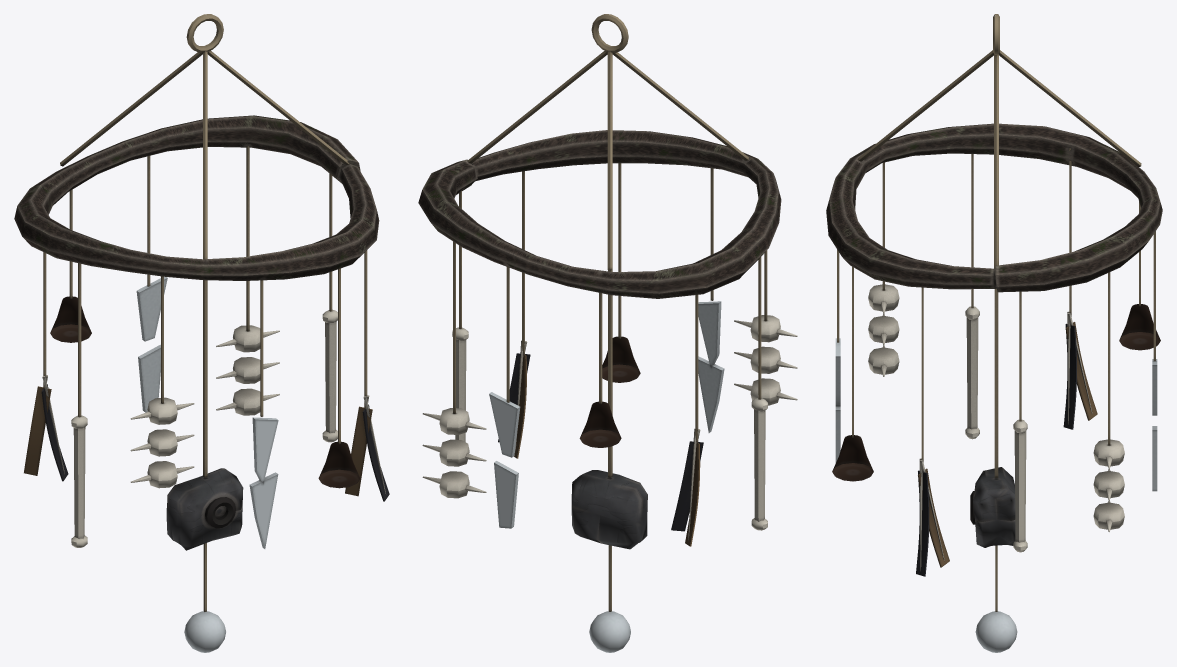
File: BoneChimes.fbx
3 renders of one model, left to right at view 1: azimuth 30°, elevation 25°; view 2: azimuth 150°, elevation 25°; view 3: azimuth 270°, elevation 25°, orthographic.
Parts seen in each view (by area): view 1: BoneChimes_Main, BoneChimes_Glass; view 2: BoneChimes_Main, BoneChimes_Glass; view 3: BoneChimes_Main, BoneChimes_Glass.
Part boxes in pixels (left/top/right/bottom): BoneChimes_Main: left=14, top=14, right=389, bottom=611; BoneChimes_Glass: left=136, top=276, right=278, bottom=652; BoneChimes_Main: left=418, top=14, right=797, bottom=611; BoneChimes_Glass: left=489, top=301, right=724, bottom=652; BoneChimes_Main: left=826, top=14, right=1162, bottom=611; BoneChimes_Glass: left=835, top=338, right=1157, bottom=652.
Bounding box in the file's own units: 210 × 402 × 193.
